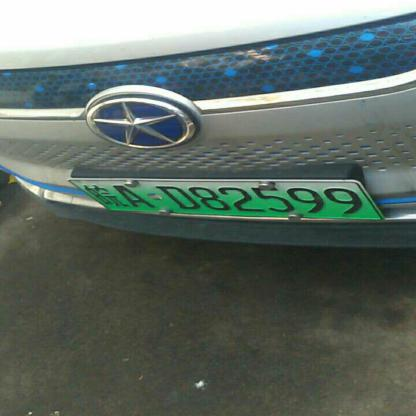lp: (67, 178, 381, 219)
